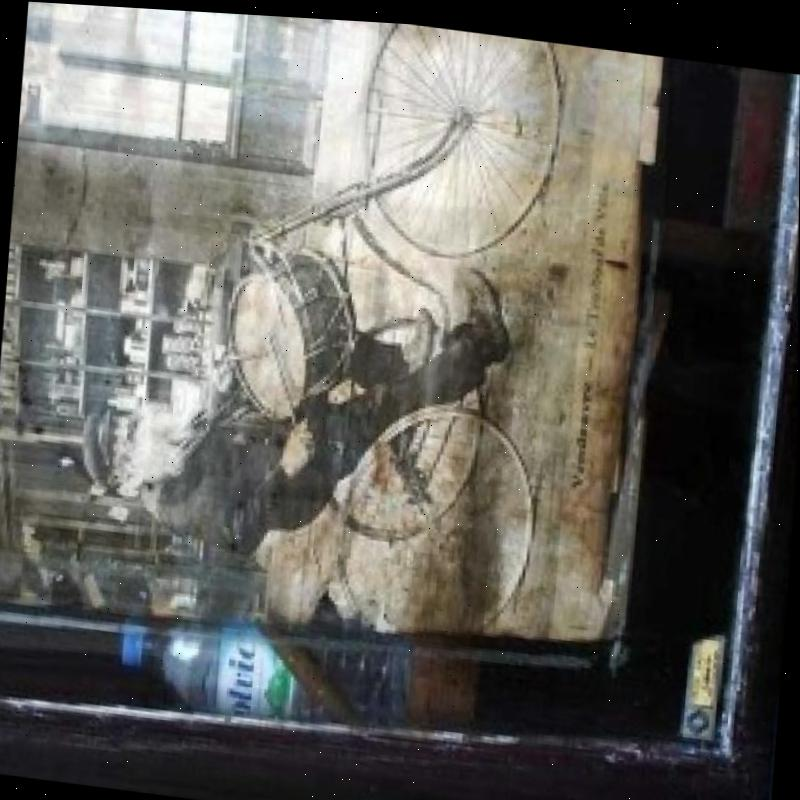botella: (111, 616, 438, 732)
